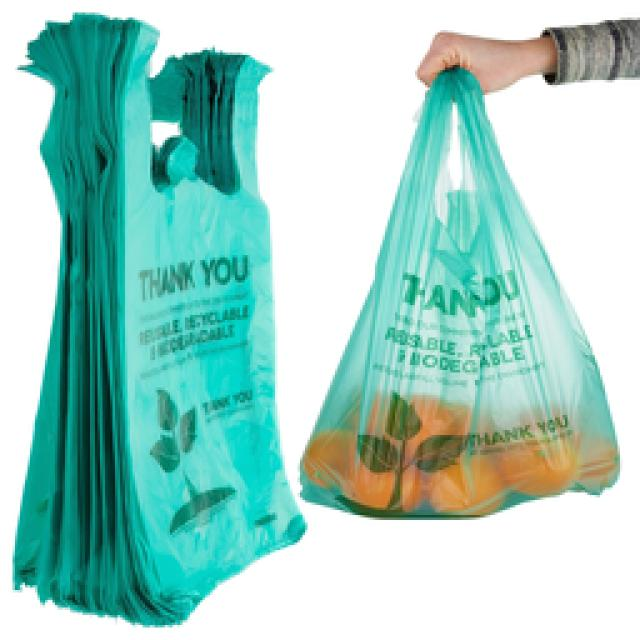plastic: (12, 15, 302, 622), (300, 70, 618, 515)
